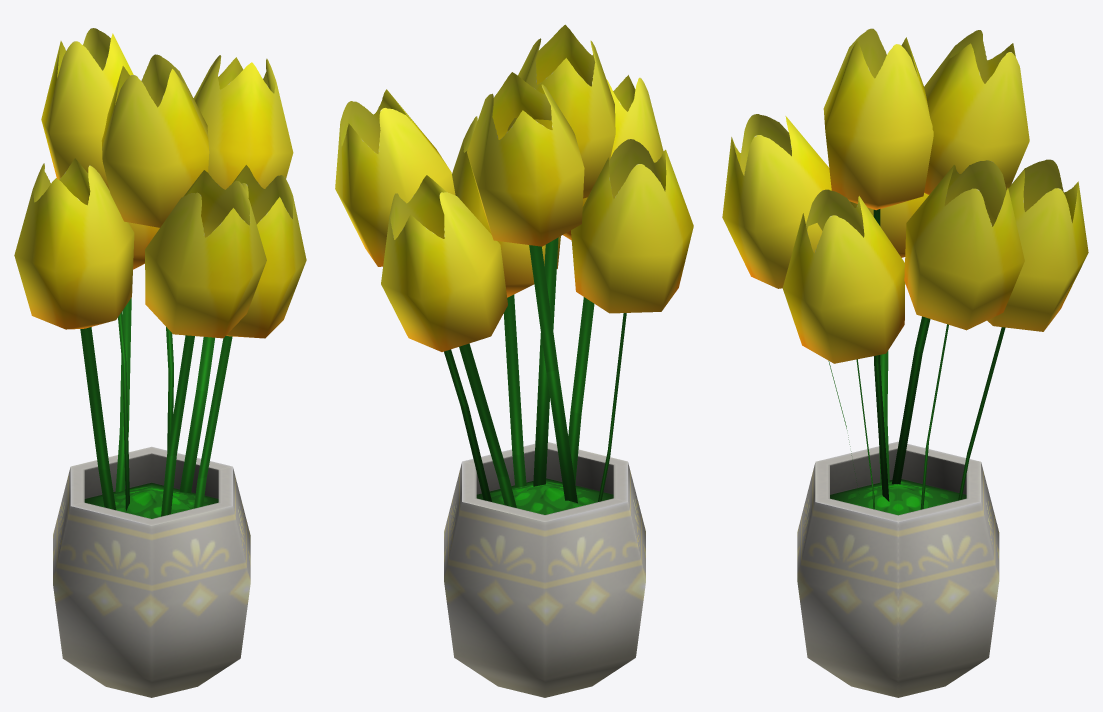
Rendered from TulipPot_01.FBX.
3 views of the same model, side by side, from view 1: azimuth 30°, elevation 25°; view 2: azimuth 150°, elevation 25°; view 3: azimuth 270°, elevation 25° (orthographic). The views are drawn at different scales.
Visible parts, largest first — view 1: TulipPot_01; view 2: TulipPot_01; view 3: TulipPot_01.
Part boxes in pixels (x1,y1,x2,y2): TulipPot_01: [14, 28, 306, 697]; TulipPot_01: [335, 24, 693, 697]; TulipPot_01: [722, 28, 1088, 697].
Size of the model in its own units: 0.2667 by 0.546 by 0.2796.
